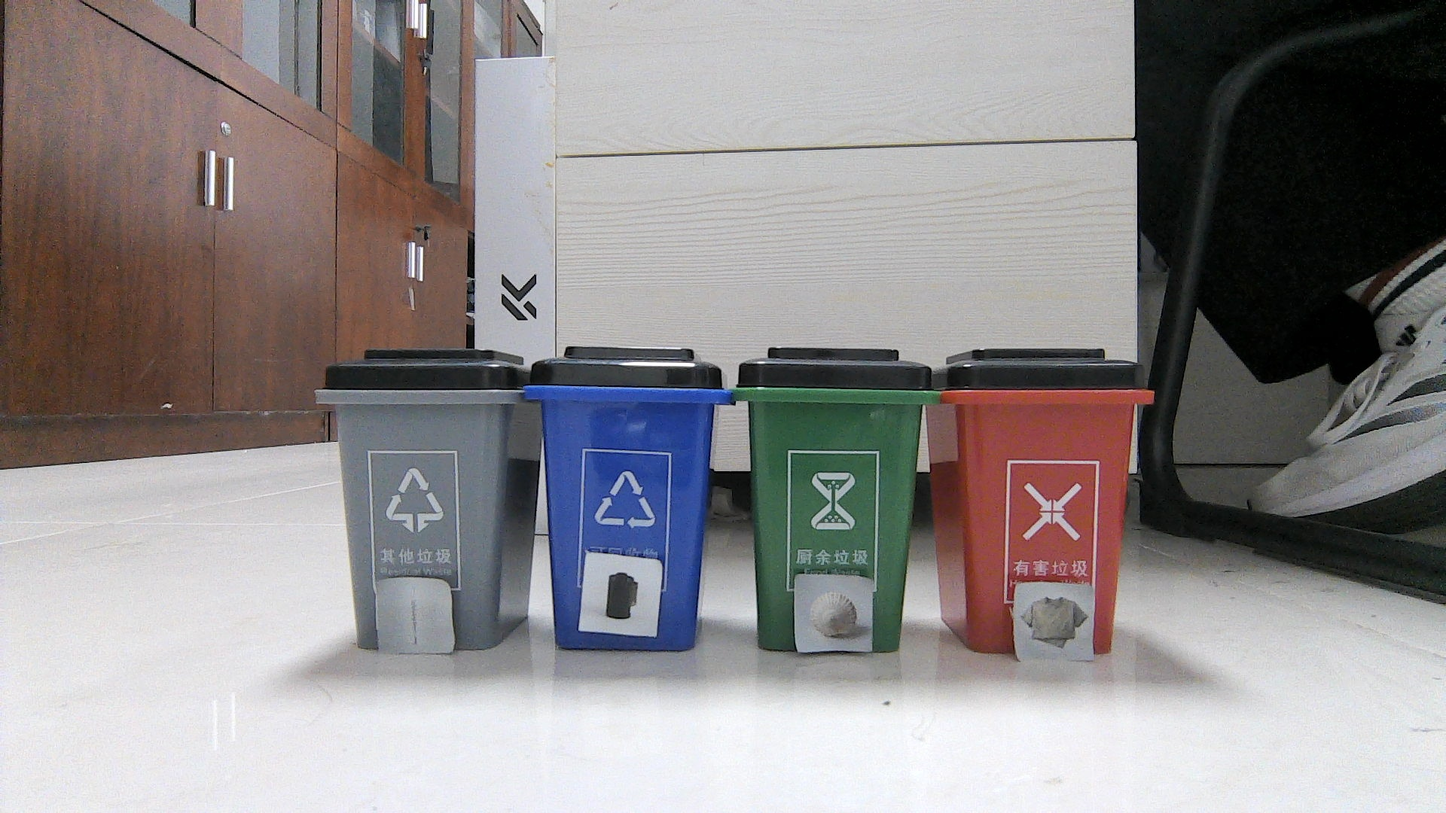hazardous_trash: (379, 581, 447, 649), (593, 558, 652, 630)
other_trash: (799, 579, 869, 648)
recyclable_trash: (1016, 585, 1091, 656)
